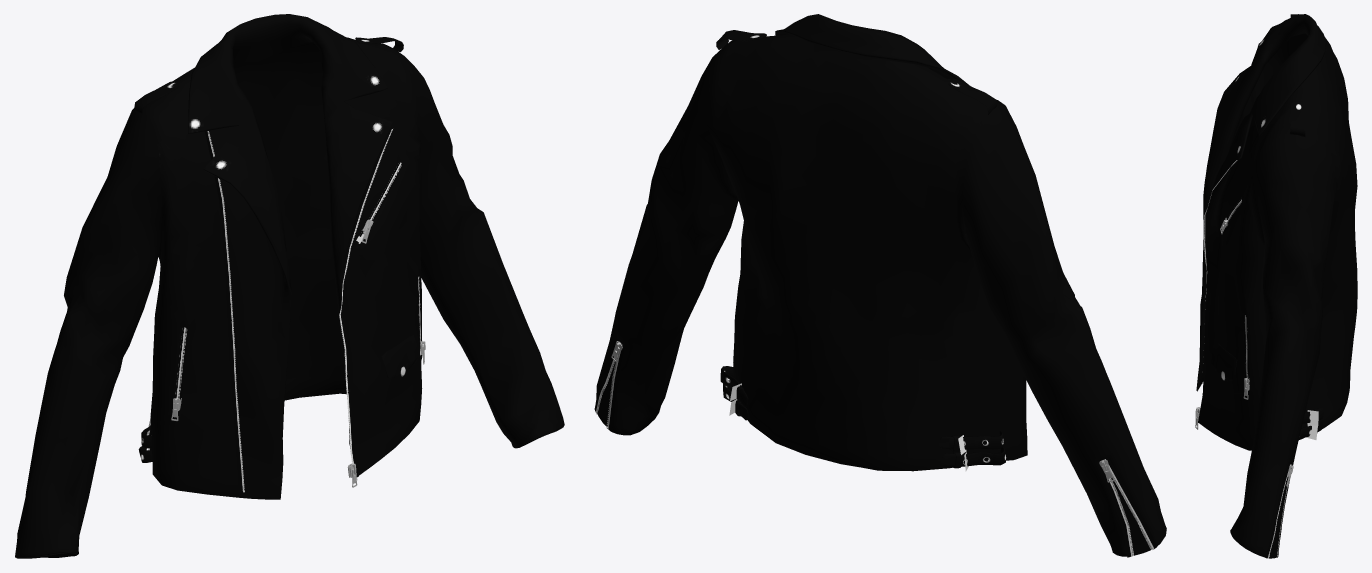
Rendered from Black Leather Jacket.fbx.
The picture shows the model from 3 angles, left to right: view 1: azimuth 30°, elevation 25°; view 2: azimuth 150°, elevation 25°; view 3: azimuth 270°, elevation 25°; orthographic projection. The views are drawn at different scales.
Visible parts, largest first — view 1: Jacket_Material03, Jacket_Material04; view 2: Jacket_Material03, Jacket_Material04; view 3: Jacket_Material03, Jacket_Material04, Jacket_Material02, Jacket_Material01.
Boxes of the visible parts, x1,y1,x2,y2 form: Jacket_Material03: (15,14,564,558); Jacket_Material04: (15,129,421,557); Jacket_Material03: (595,14,1166,556); Jacket_Material04: (594,338,1157,557); Jacket_Material03: (1196,14,1357,558); Jacket_Material04: (1200,160,1291,557); Jacket_Material02: (1195,218,1293,486); Jacket_Material01: (1306,410,1318,439).
Bounding box in the file's own units: 95.31 × 78 × 27.14.
4 materials, 3 textured.
